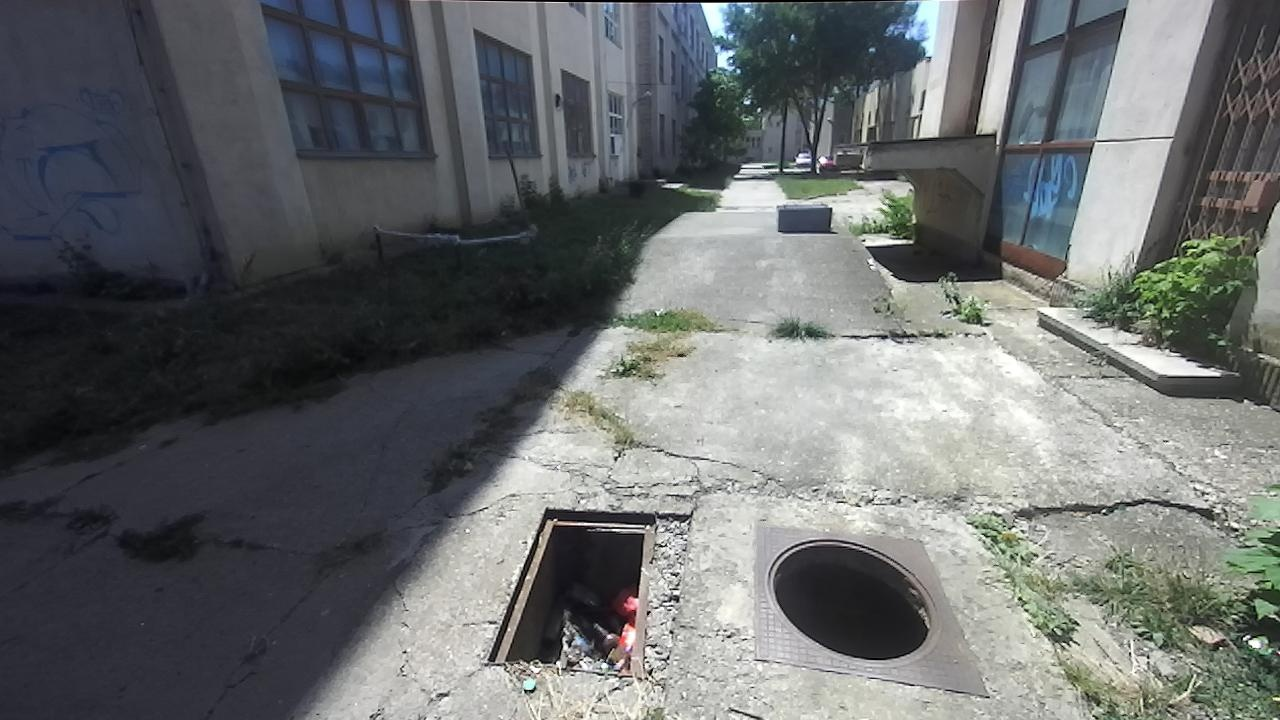drain: (482, 504, 699, 663), (768, 535, 933, 661)
